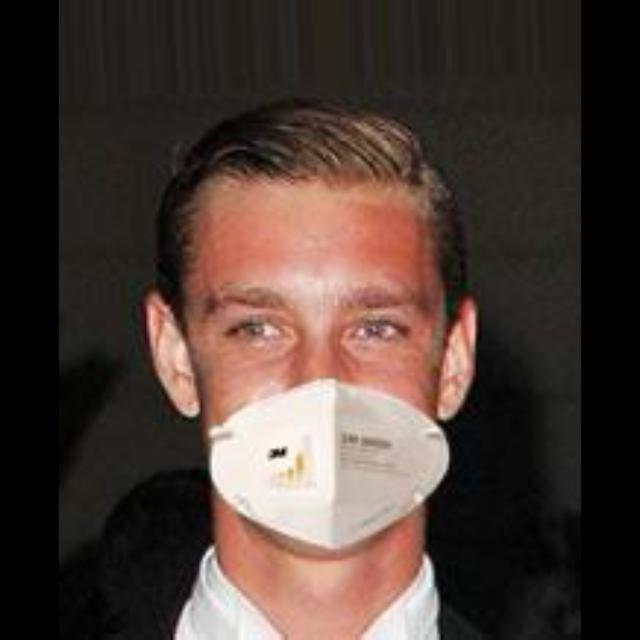suspicion: (140, 108, 518, 540)
